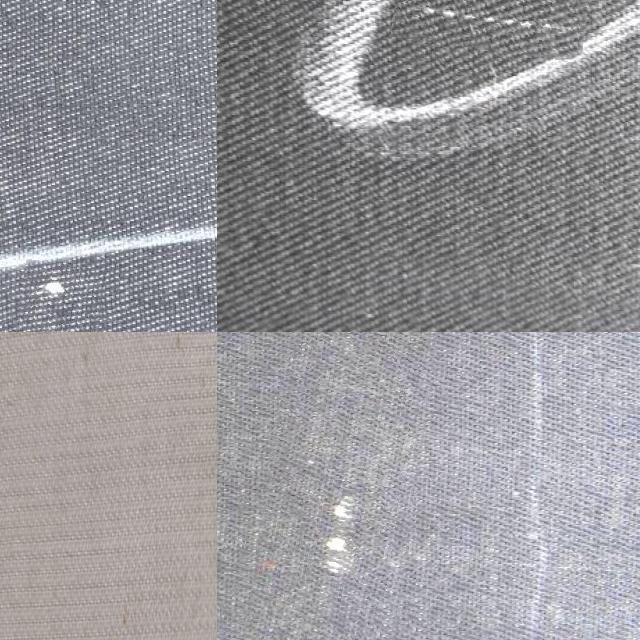Thread_other: (260, 332, 452, 640), (391, 0, 587, 57), (18, 262, 104, 332)
